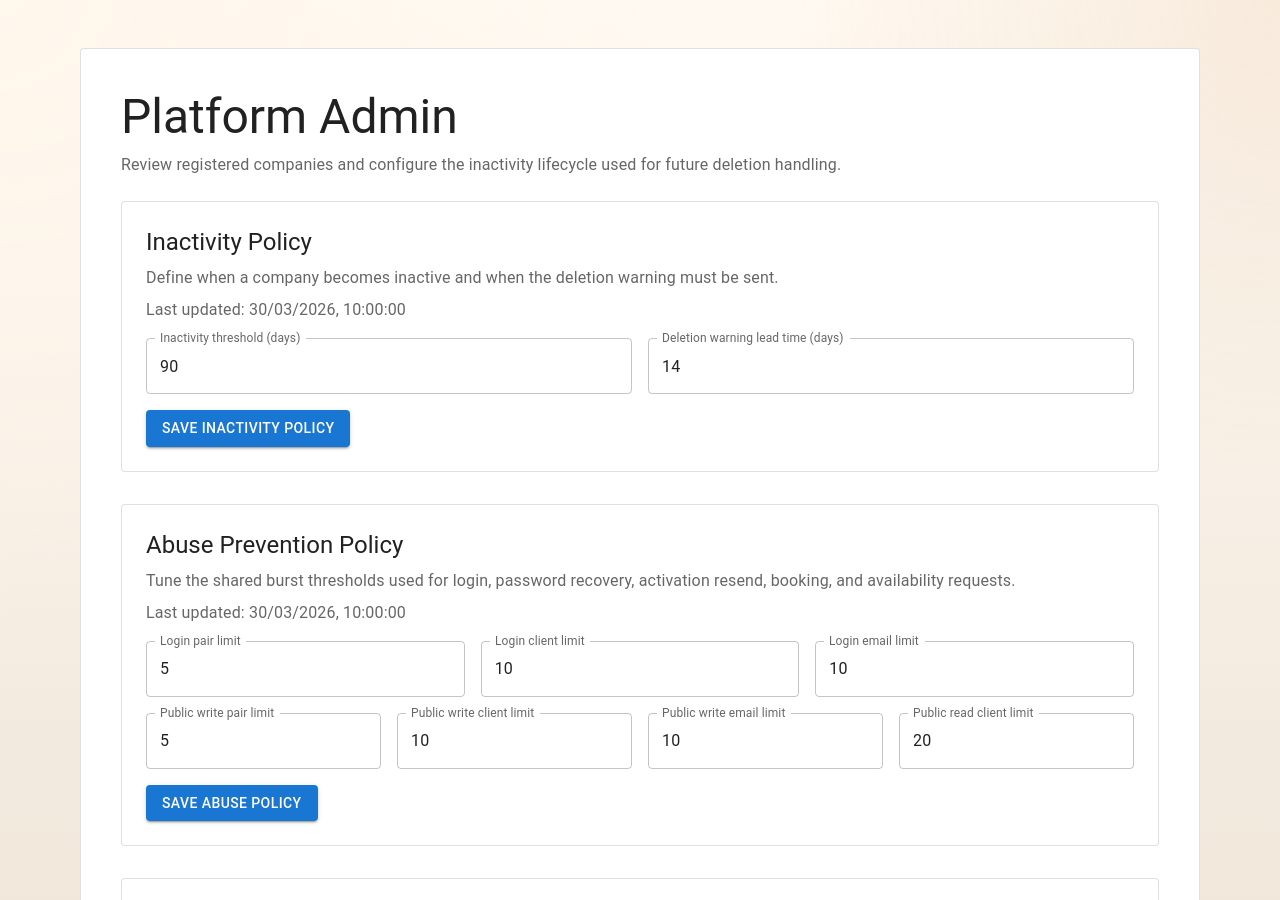
Test: PlatformAdminCompanyListScreen › saves a valid policy update
The width and height of the screenshot is (1280, 900).
Replace the text in the number field labelled "Inactivity threshold (days)" with "120": point(389, 366) [146, 338, 632, 394]
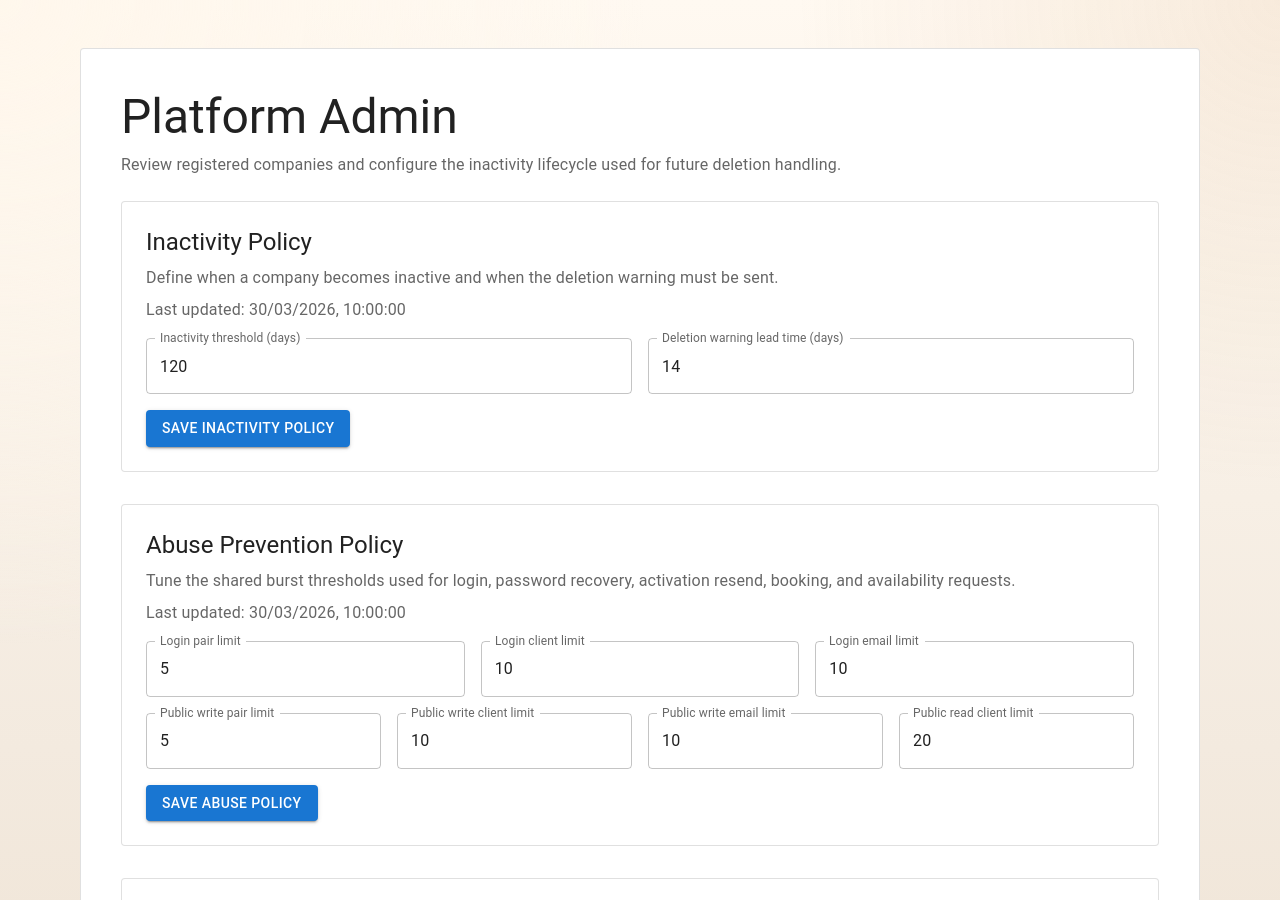
Replace the text in the number field labelled "Deletion warning lead time (days)" with "21": point(891, 366) [648, 338, 1134, 394]
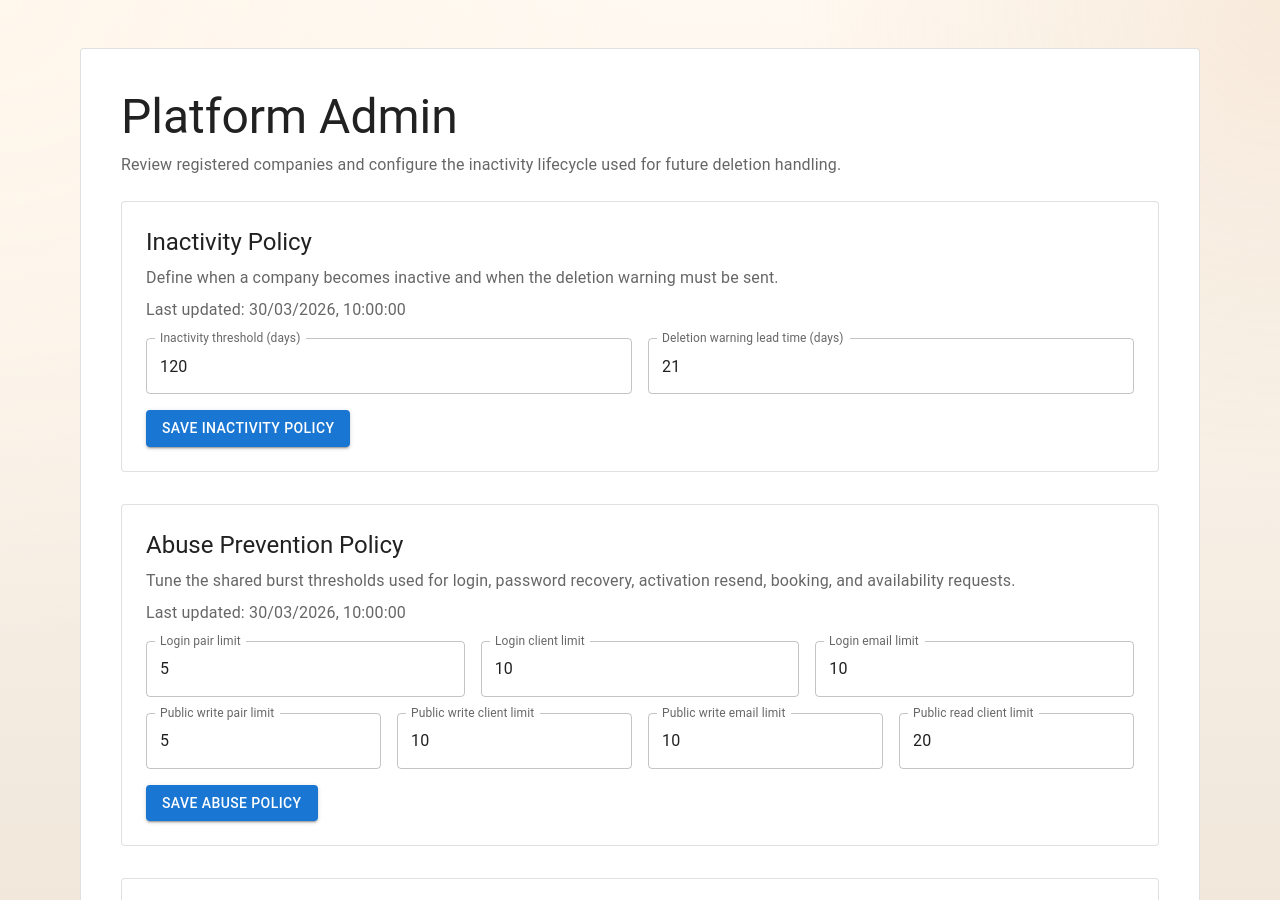
Click the button "Save inactivity policy": point(248, 428) [146, 410, 350, 446]
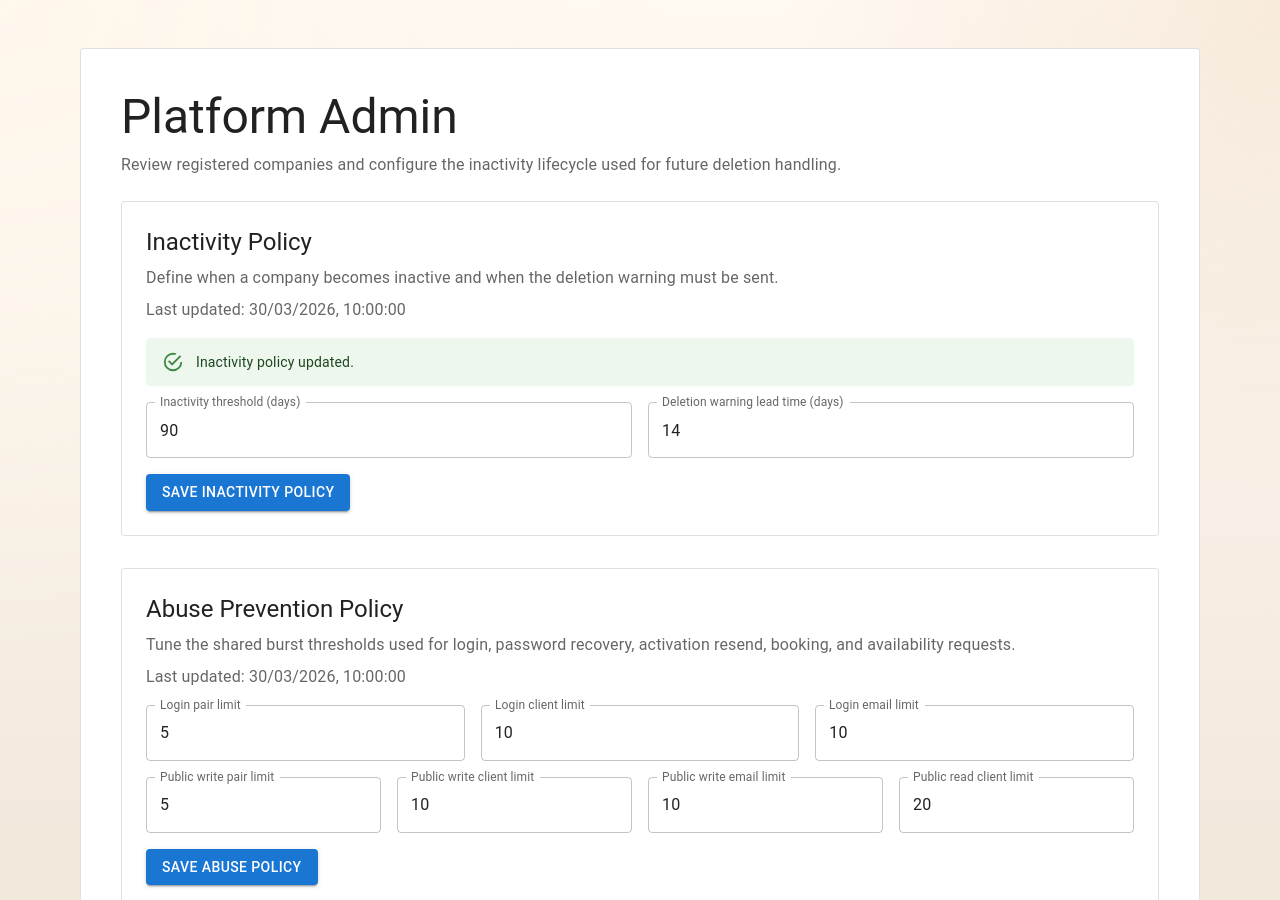
Result: the text "Inactivity policy updated." is shown at [196, 354, 354, 370]
